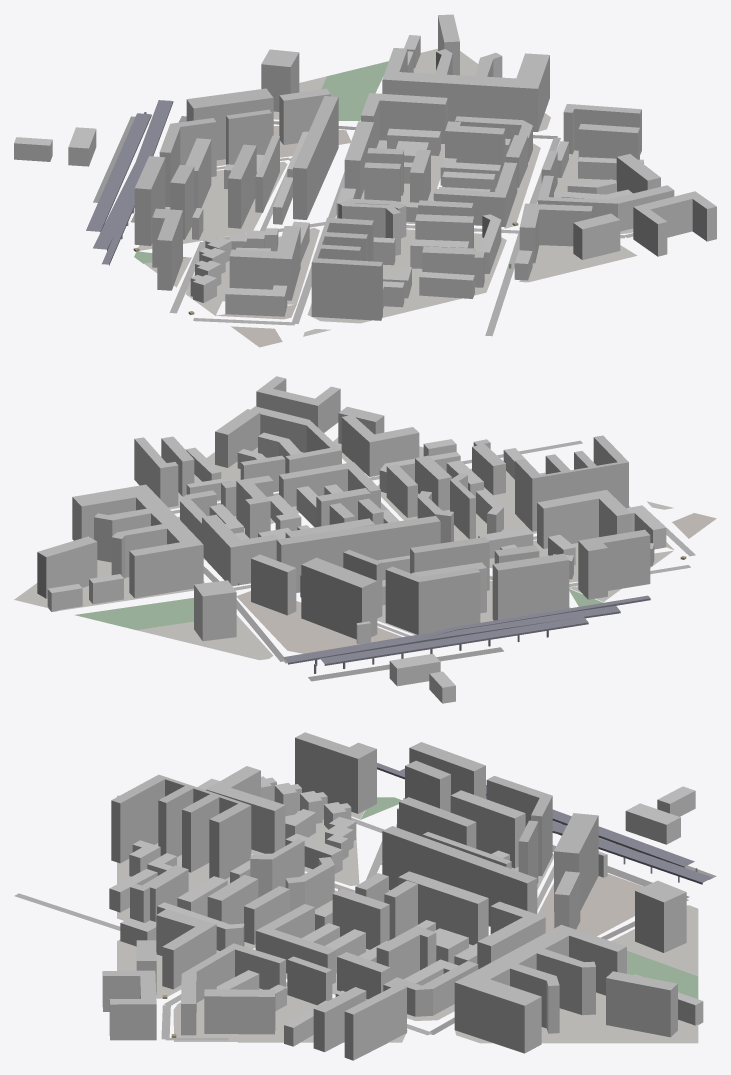
3 views of the same model, one above another, from view 1: azimuth 30°, elevation 25°; view 2: azimuth 150°, elevation 25°; view 3: azimuth 270°, elevation 25° (orthographic). The views are drawn at different scales.
Size of the model in its own units: 586 by 60.88 by 605.
